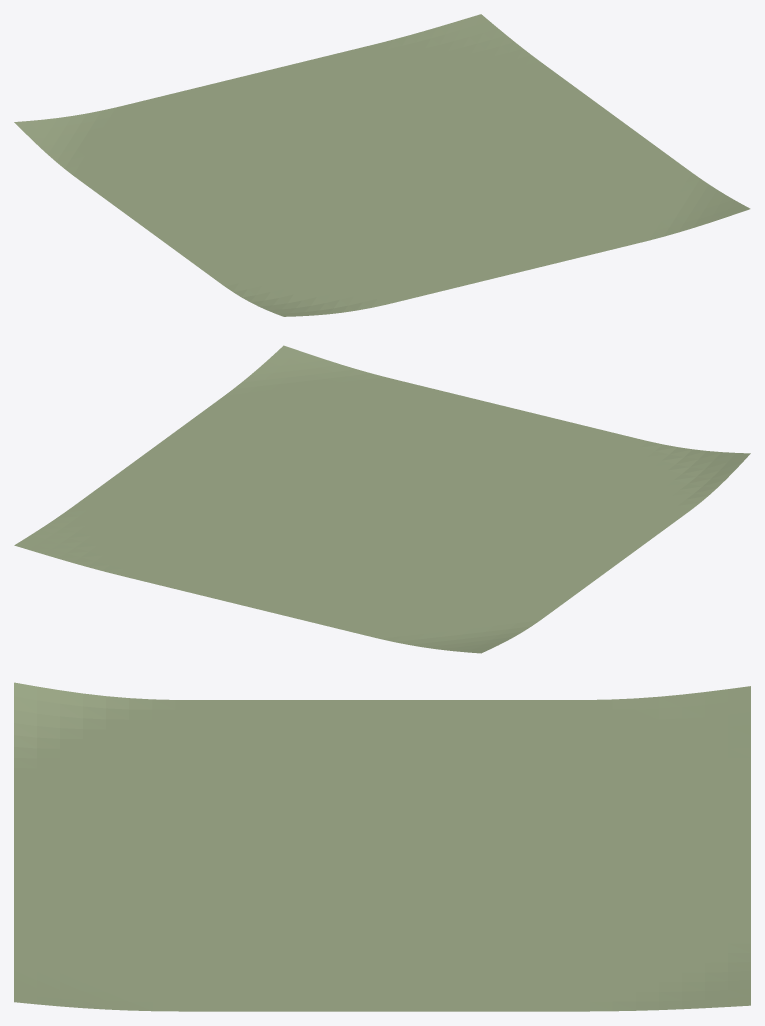
File: gardens-5-5.glb
3 views of the same model, one above another, from view 1: azimuth 30°, elevation 25°; view 2: azimuth 150°, elevation 25°; view 3: azimuth 270°, elevation 25° (orthographic). The views are drawn at different scales.
Parts seen in each view (by area): view 1: gardens-5-5; view 2: gardens-5-5; view 3: gardens-5-5.
Boxes of the visible parts, left/top/right/bottom form: gardens-5-5: left=14, top=14, right=750, bottom=316; gardens-5-5: left=14, top=345, right=750, bottom=653; gardens-5-5: left=14, top=682, right=750, bottom=1011.
Bounding box in the file's own units: 256 × 6.74 × 256.
